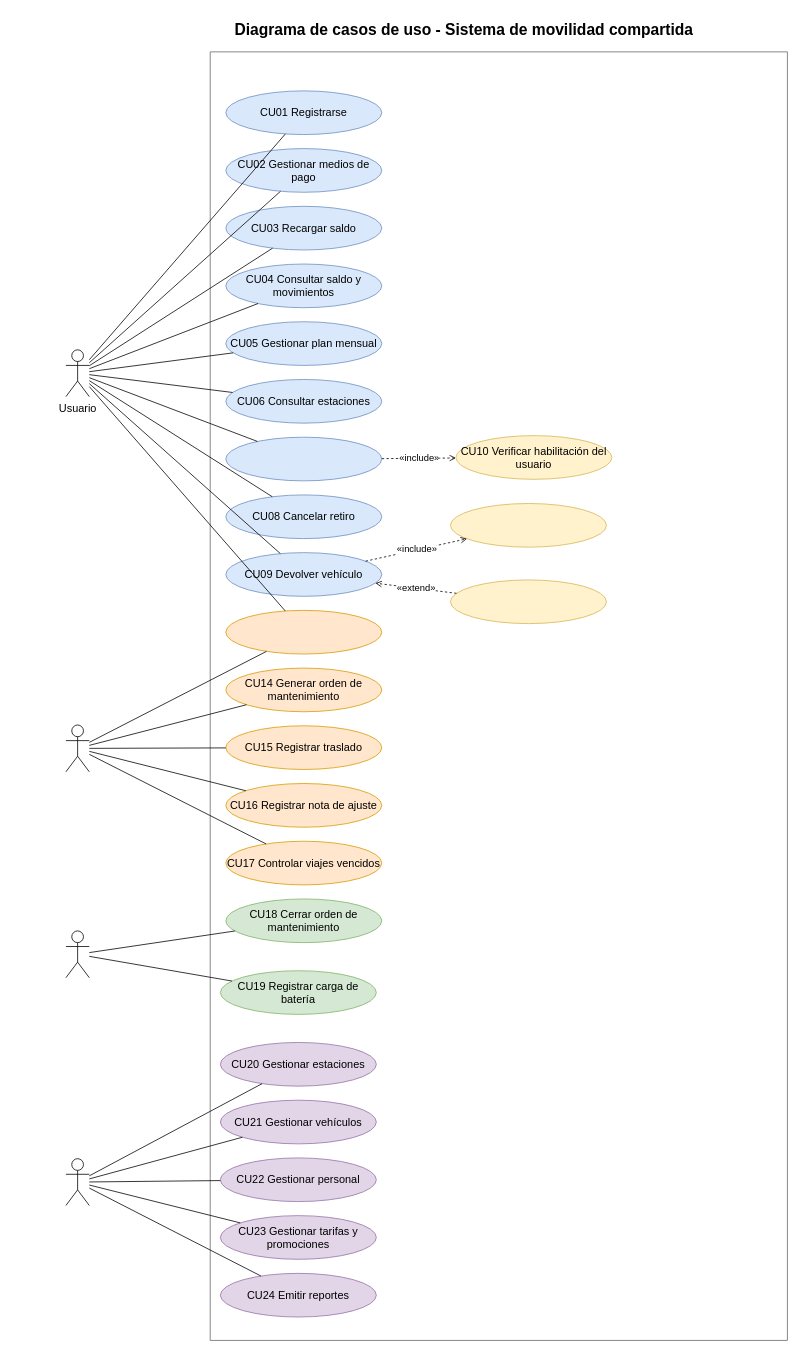
This 801x1354 diagram has some shape labels left out. The shapes that lost their labels are listed below. From the top down, each one's centre as x and y in pixels, then its label:
At point 303,458: "CU07 Retirar vehículo".
At point 528,525: "CU11 Calcular tarifa".
At point 528,601: "CU12 Desviar a otra estación".
At point 303,632: "CU13 Reportar falla".
At point 77,748: "Operador del sistema".
At point 77,954: "Técnico de mantenimiento".
At point 77,1181: "Administrador".
